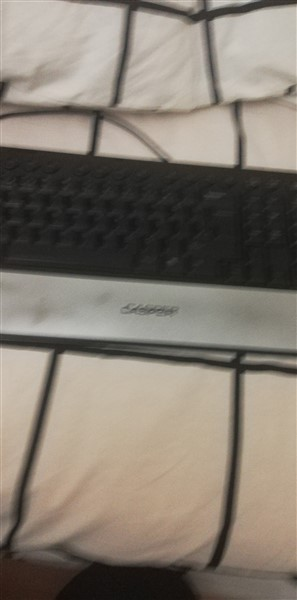klavye: (2, 141, 297, 371)
